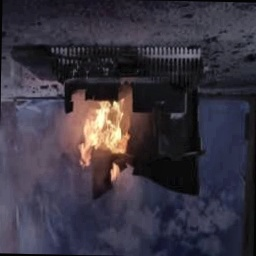fire: (78, 94, 138, 183)
smoke: (0, 154, 79, 255)
